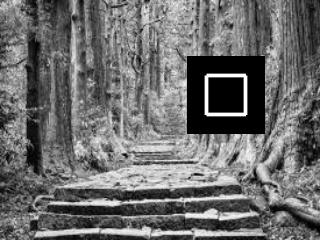square: (187, 56, 265, 134)
